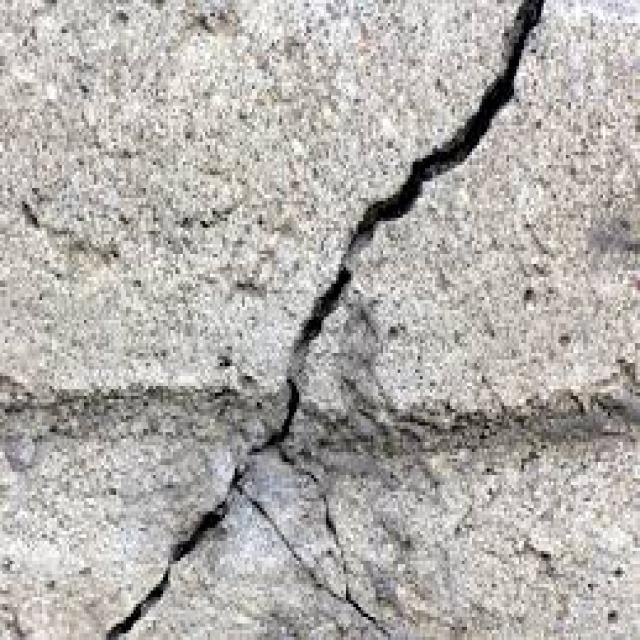Crack: (104, 0, 548, 637), (235, 478, 390, 637), (274, 439, 348, 594)
